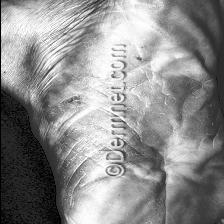Non-Cancerous Skin Condition: (56, 54, 102, 157), (140, 121, 212, 169), (130, 34, 167, 98)
